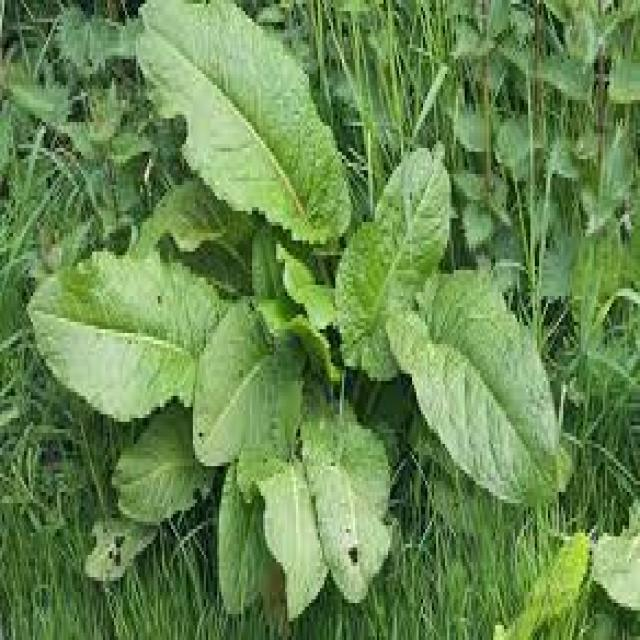organic waste: (28, 0, 581, 633)
